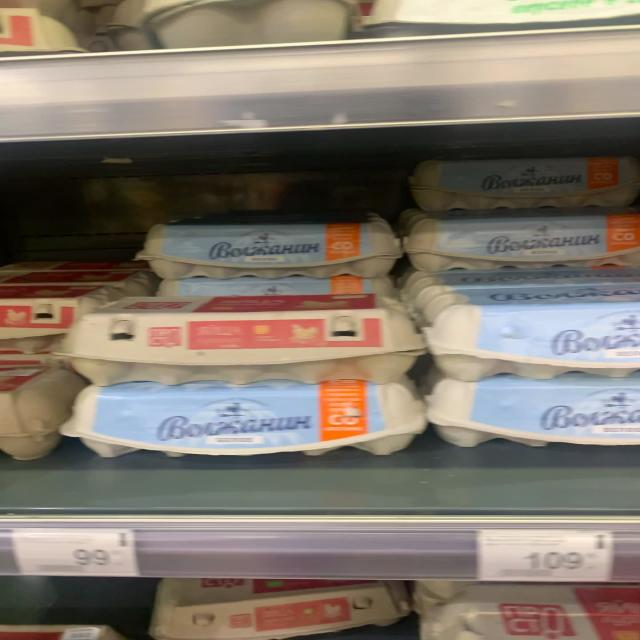egg box: (53, 292, 426, 379), (61, 374, 428, 456), (134, 209, 400, 282), (425, 282, 636, 374), (430, 375, 634, 453), (156, 574, 410, 633), (405, 205, 634, 269)
